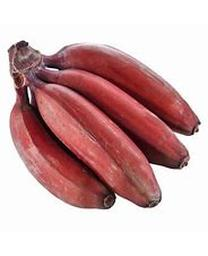banana: (8, 41, 191, 208)
